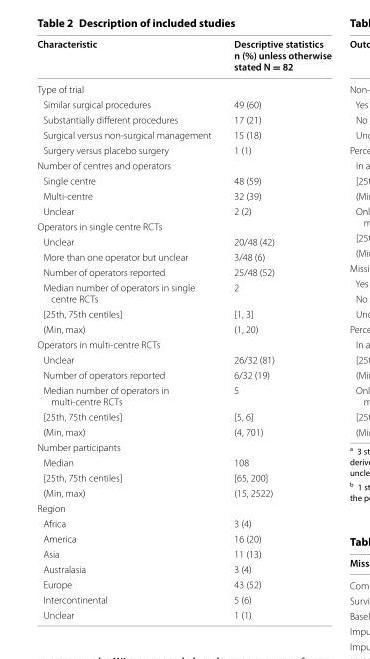table: (36, 37, 331, 620)
table column: (36, 37, 221, 620), (221, 37, 331, 620)
table column header: (36, 37, 331, 81)
table projected row header: (36, 81, 331, 96), (36, 157, 331, 172), (36, 218, 331, 233), (36, 336, 331, 351), (36, 439, 331, 454), (36, 500, 331, 515)
table row: (36, 37, 331, 81), (36, 279, 331, 305), (36, 382, 331, 408), (36, 126, 331, 142), (36, 187, 331, 203), (36, 248, 331, 264), (36, 305, 331, 321), (36, 366, 331, 382), (36, 423, 331, 439), (36, 484, 331, 500), (36, 545, 331, 561), (36, 81, 331, 96), (36, 96, 331, 111), (36, 111, 331, 126), (36, 142, 331, 157), (36, 157, 331, 172), (36, 172, 331, 187), (36, 203, 331, 218), (36, 218, 331, 233), (36, 233, 331, 248), (36, 264, 331, 279), (36, 321, 331, 336), (36, 336, 331, 351), (36, 351, 331, 366), (36, 408, 331, 423), (36, 439, 331, 454), (36, 454, 331, 469), (36, 469, 331, 484), (36, 500, 331, 515), (36, 515, 331, 530), (36, 530, 331, 545), (36, 561, 331, 576), (36, 576, 331, 591), (36, 591, 331, 606), (36, 606, 331, 620)
